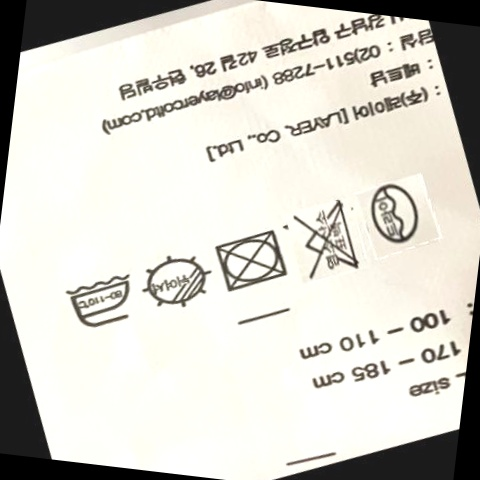DN_bleach: (292, 194, 362, 289)
DN_tumble_dry: (212, 221, 293, 303)
dry_clean: (364, 175, 433, 256)
dry_flat_in_shade: (142, 246, 212, 319)
tumble_dry_low: (61, 259, 143, 340)
